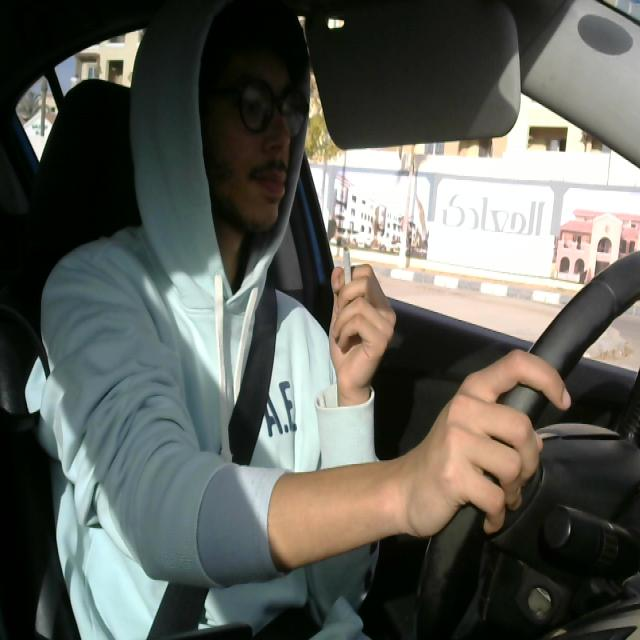smoking: (340, 239, 358, 318)
